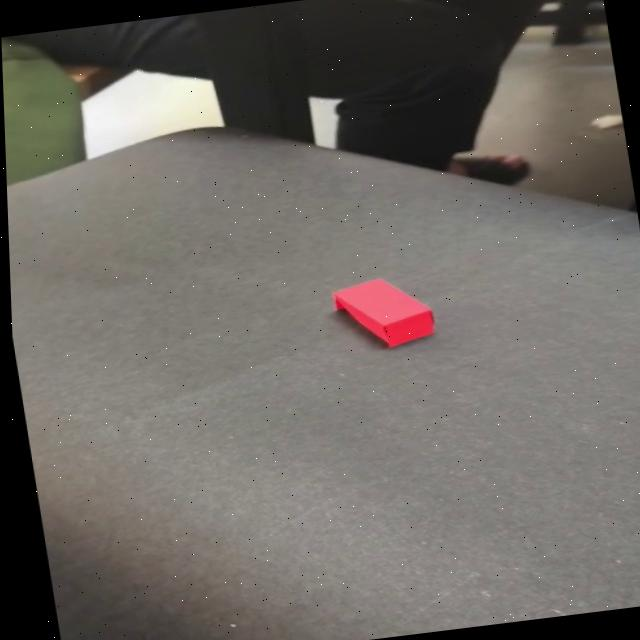red block: (330, 271, 441, 353)
